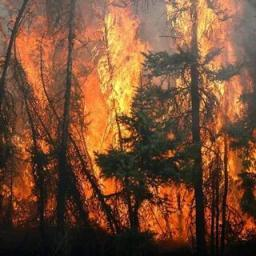Large fire: (0, 0, 255, 248)
